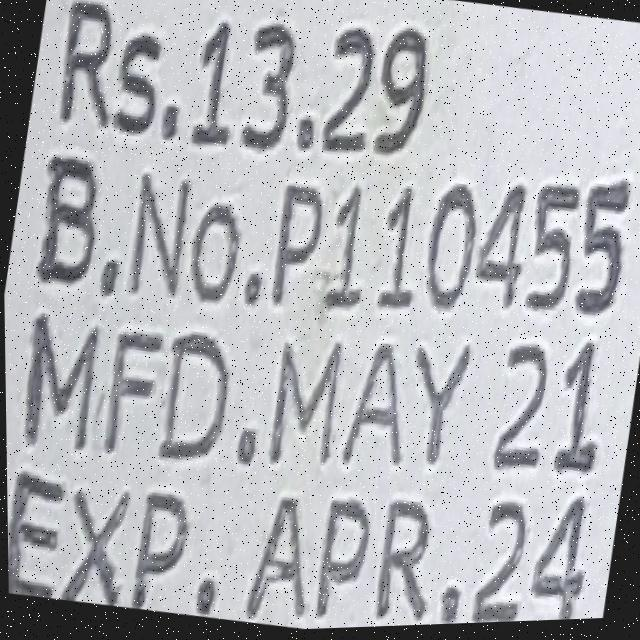sentence: (22, 317, 604, 515), (35, 156, 628, 325), (6, 469, 584, 631), (59, 0, 428, 165)
